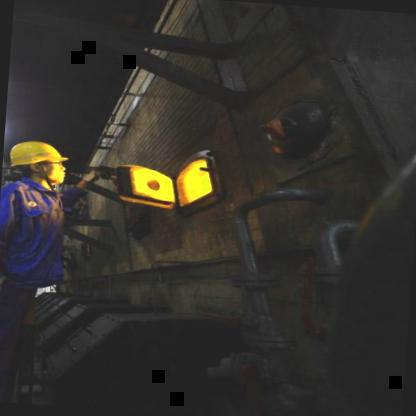helmet: (1, 138, 72, 188)
